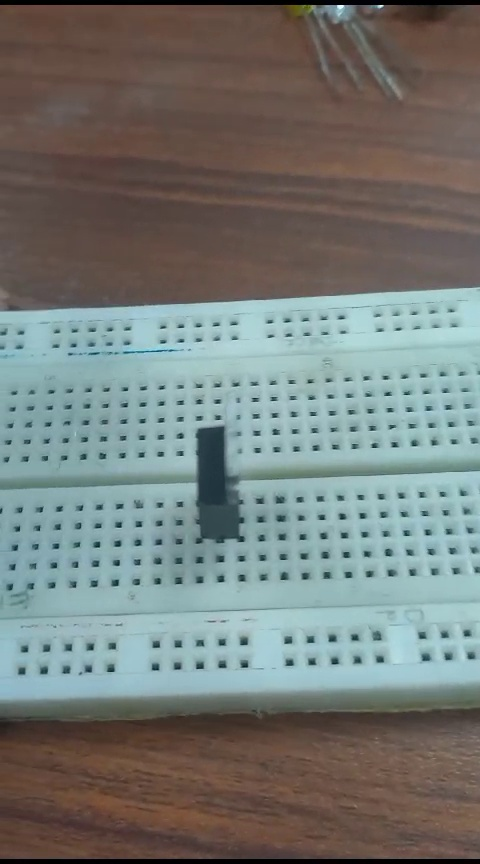voltage regulator: (182, 385, 248, 553)
